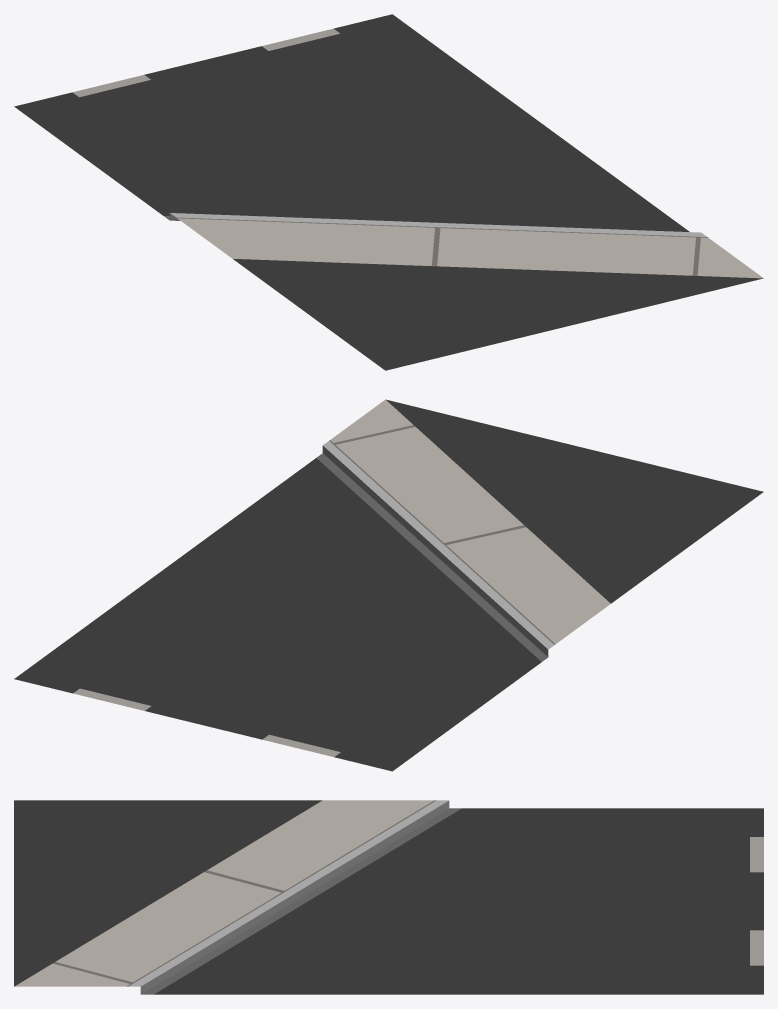
Rendered from SA_Env_Road_LaneTransition_Right01.gltf.
3 views of the same model, one above another, from view 1: azimuth 30°, elevation 25°; view 2: azimuth 150°, elevation 25°; view 3: azimuth 270°, elevation 25° (orthographic).
Parts seen in each view (by area): view 1: SA_Env_Road_LaneTransition_Right01; view 2: SA_Env_Road_LaneTransition_Right01; view 3: SA_Env_Road_LaneTransition_Right01.
Boxes of the visible parts, <box> form: SA_Env_Road_LaneTransition_Right01: <box>14,14,763,370</box>; SA_Env_Road_LaneTransition_Right01: <box>14,399,763,771</box>; SA_Env_Road_LaneTransition_Right01: <box>14,800,763,994</box>.
Size of the model in its own units: 10 by 0.1948 by 17.
Materials: 1 (1 with a texture image).
